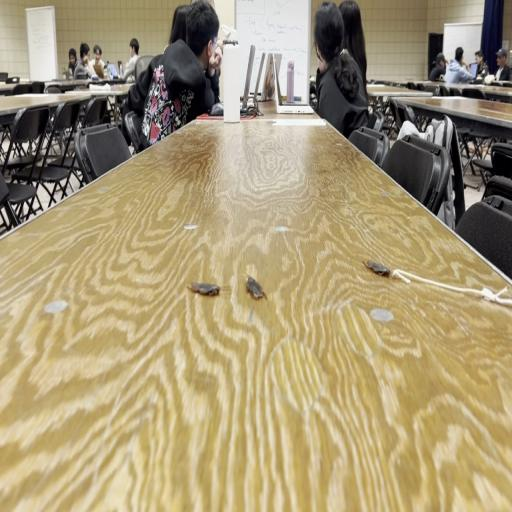cockroach: (244, 274, 268, 301), (187, 282, 230, 297), (362, 258, 392, 277)
